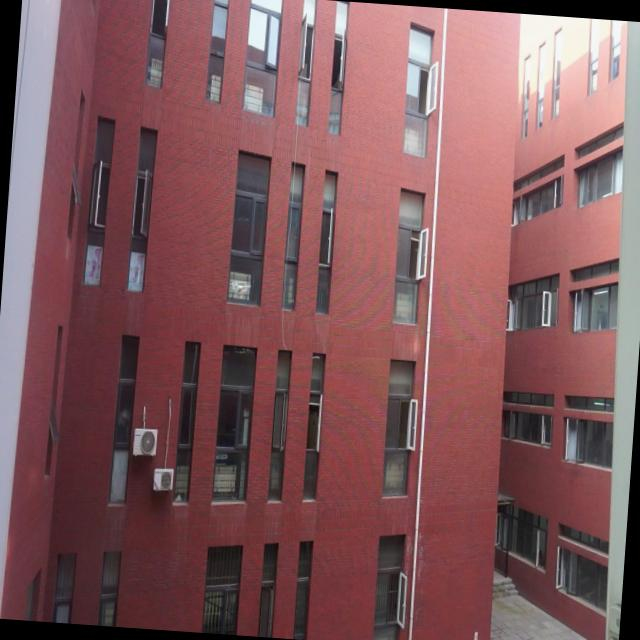drone: (227, 277, 251, 299)
